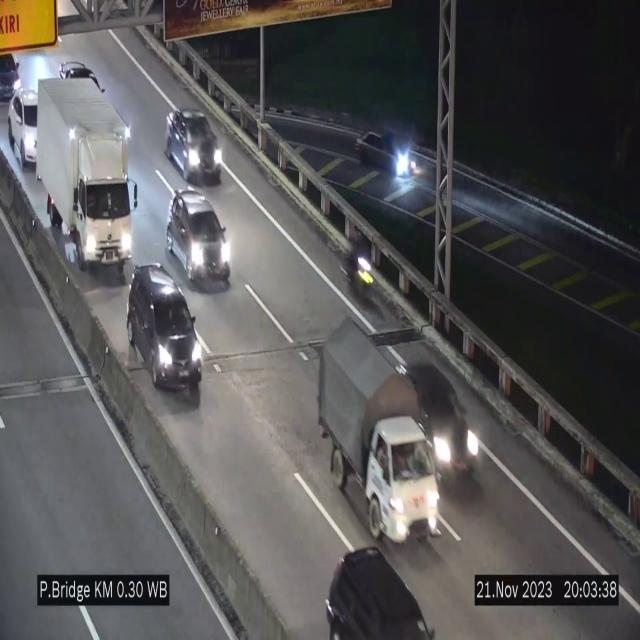Car: (394, 354, 480, 484), (126, 261, 205, 400), (166, 189, 230, 287), (164, 102, 222, 192)
Motorcycle: (341, 228, 375, 305)
Truck: (318, 316, 442, 551), (34, 75, 139, 273)
